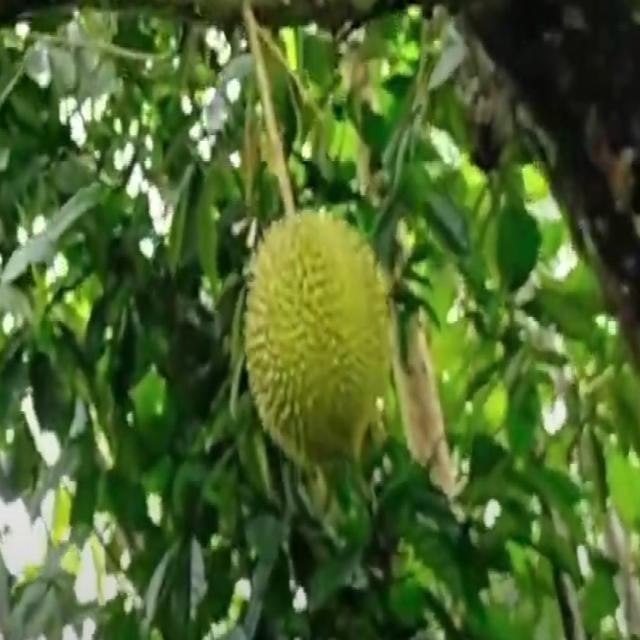immature: (242, 209, 392, 479)
